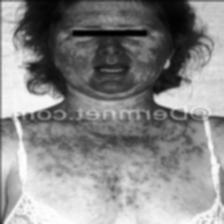Unclassified: (82, 68, 140, 94), (90, 171, 123, 201)
